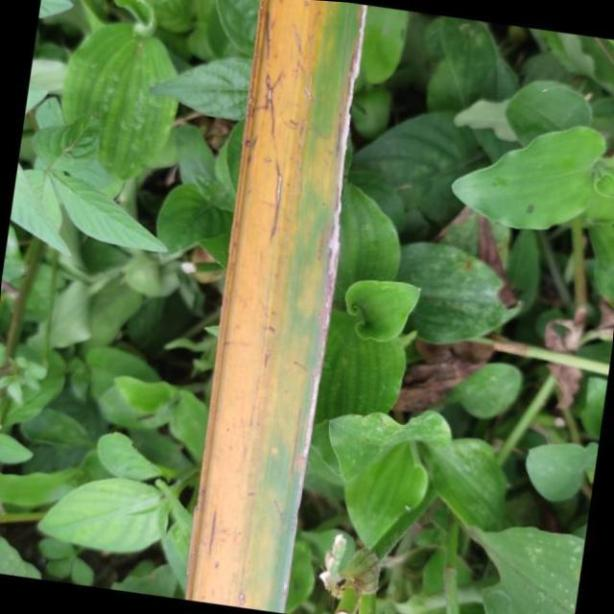Megnesium: (187, 0, 368, 614)
